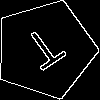T: (20, 24, 73, 79)
